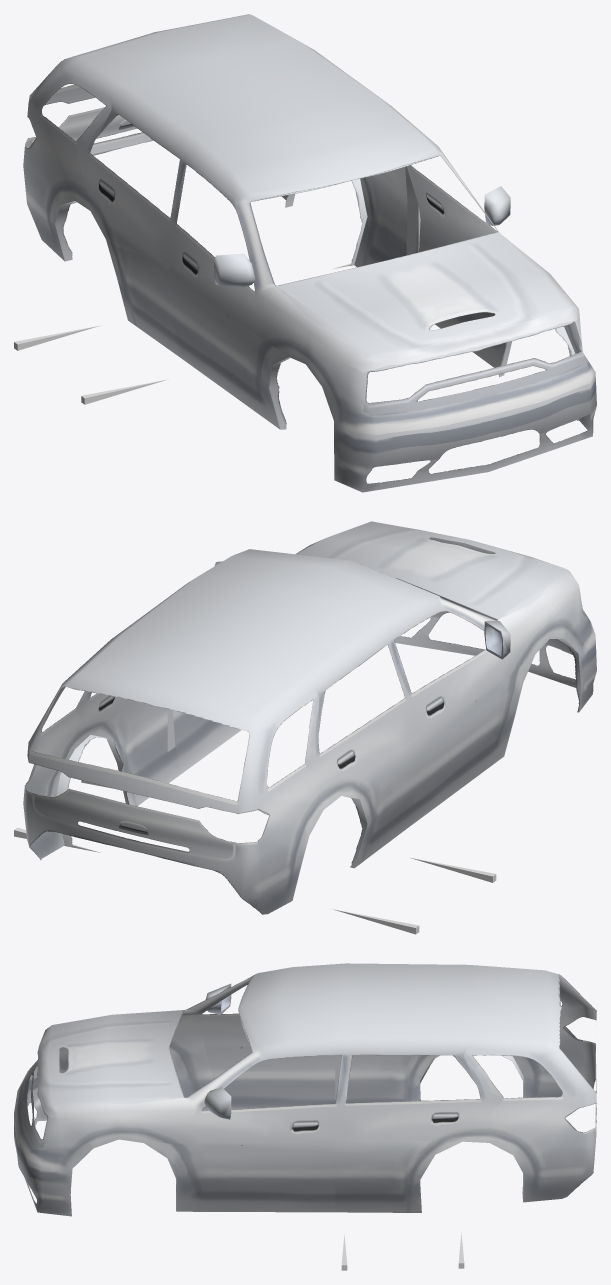
Rendered from SUV.FBX.
The picture shows the model from 3 angles, top to bottom: view 1: azimuth 30°, elevation 25°; view 2: azimuth 150°, elevation 25°; view 3: azimuth 270°, elevation 25°; orthographic projection. The views are drawn at different scales.
Parts seen in each view (by area): view 1: SUV1BodyLores, SUV2BodyWindowed, SUV3BodyDoorCut, DoorBR, DoorR, MirrorR, MirrorL, DoorBL; view 2: SUV1BodyLores, SUV2BodyWindowed, SUV3BodyDoorCut, DoorBR, DoorBL, MirrorR, DoorL; view 3: SUV1BodyLores, SUV2BodyWindowed, SUV3BodyDoorCut, DoorR, DoorBL, DoorL, DoorBR, MirrorL.
Part boxes in pixels (x1,y1,x2,y2): SUV1BodyLores: (23, 14, 596, 492); SUV2BodyWindowed: (28, 100, 549, 361); SUV3BodyDoorCut: (92, 156, 505, 423); DoorBR: (109, 224, 175, 334); DoorR: (168, 266, 243, 342); MirrorR: (214, 253, 255, 286); MirrorL: (484, 186, 510, 225); DoorBL: (370, 185, 418, 223); SUV1BodyLores: (23, 521, 596, 914); SUV2BodyWindowed: (25, 538, 549, 815); SUV3BodyDoorCut: (60, 633, 533, 867); DoorBR: (359, 736, 418, 834); DoorBL: (117, 704, 166, 755); MirrorR: (484, 621, 510, 659); DoorL: (173, 712, 210, 746); SUV1BodyLores: (14, 963, 596, 1216); SUV2BodyWindowed: (112, 973, 585, 1142); SUV3BodyDoorCut: (147, 1016, 459, 1212); DoorR: (203, 1016, 335, 1099); DoorBL: (335, 1100, 444, 1194); DoorL: (206, 1139, 335, 1189); DoorBR: (349, 1055, 416, 1081); MirrorL: (204, 1087, 231, 1119).
Size of what is drawn, in the model's own units: 334 by 186 by 504.
